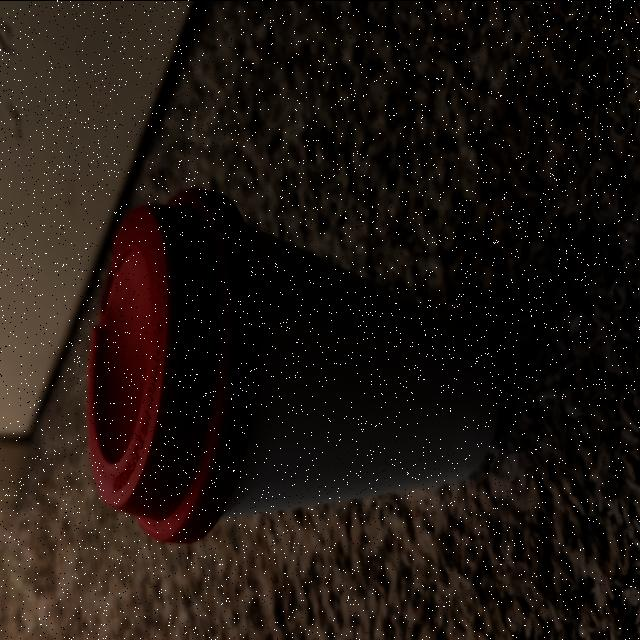mug: (91, 190, 503, 538)
